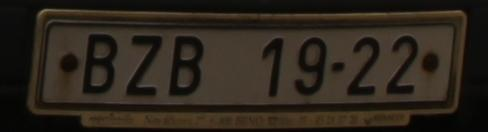-: (331, 61, 344, 71)
1: (264, 38, 284, 96)
2: (389, 36, 419, 94), (349, 36, 376, 95)
9: (294, 38, 327, 94)
B: (168, 35, 203, 96), (85, 34, 116, 94)
Z: (126, 36, 160, 97)
